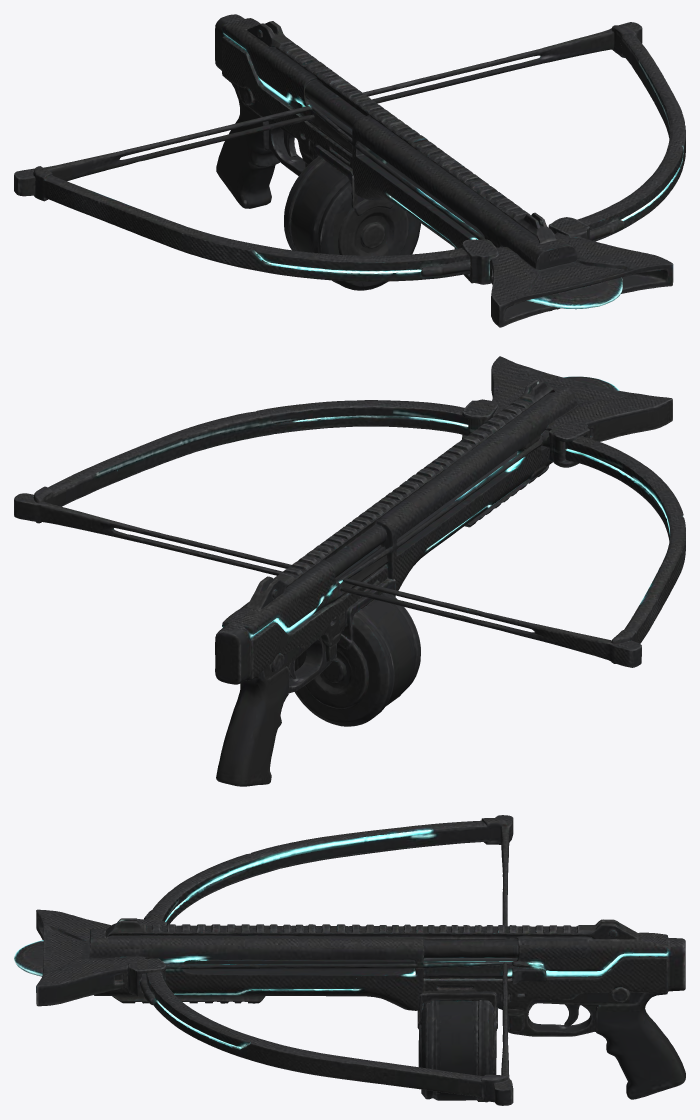
The model's file is disc_crossbow.medium.glb.
The picture shows the model from 3 angles, top to bottom: view 1: azimuth 30°, elevation 25°; view 2: azimuth 150°, elevation 25°; view 3: azimuth 270°, elevation 25°; orthographic projection. The views are drawn at different scales.
Parts seen in each view (by area): view 1: model; view 2: model; view 3: model.
Part boxes in pixels (bbox=[...]): model: bbox=[14, 14, 685, 327]; model: bbox=[14, 356, 685, 786]; model: bbox=[14, 815, 685, 1105].
Size of the model in its own units: 0.8728 by 0.2624 by 0.9009.
Materials: 1 (1 with a texture image).
